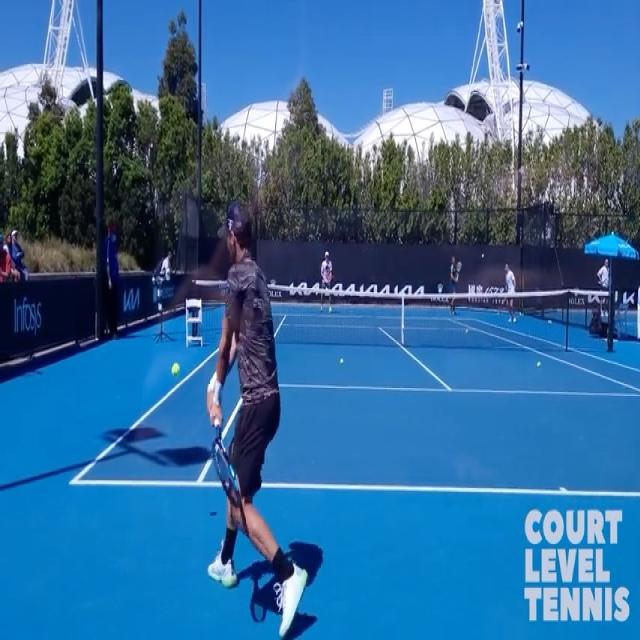backhand-ready: (199, 203, 309, 635)
